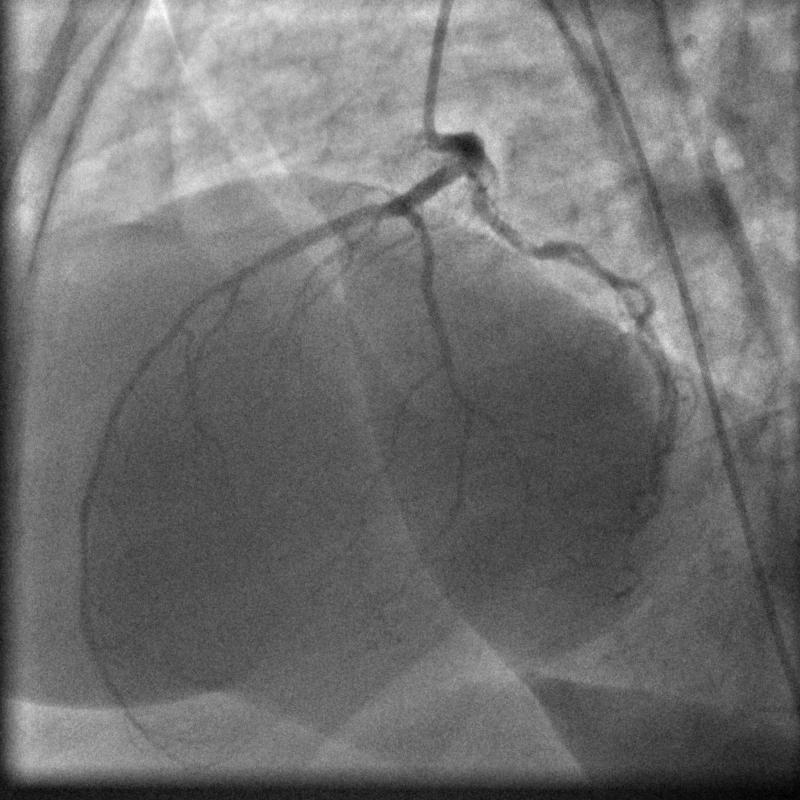Stenosis: (514, 225, 555, 275)
